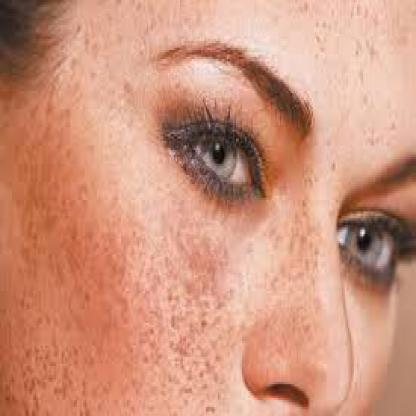darkspot: (14, 214, 98, 414), (154, 207, 233, 407), (308, 18, 405, 150), (292, 166, 319, 295), (117, 68, 136, 107)
